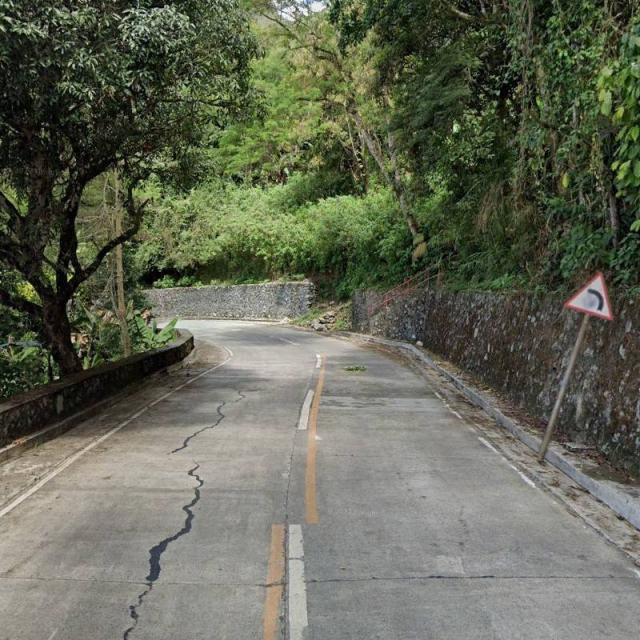warn_left_curve: (562, 269, 613, 319)
